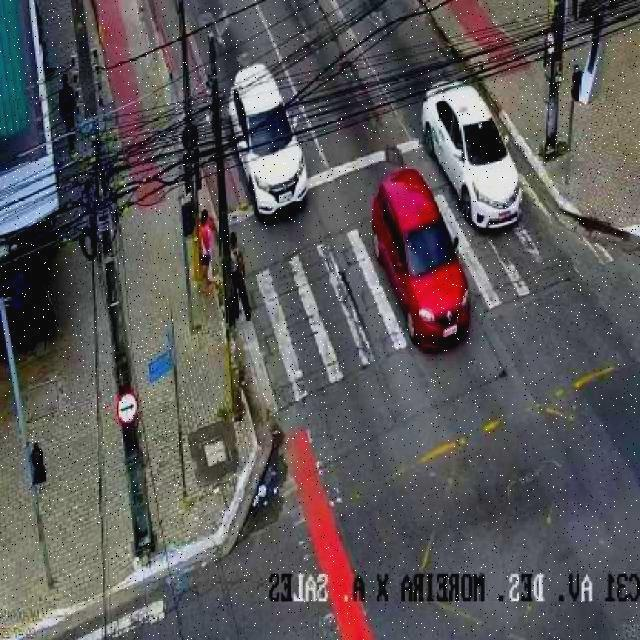Car: (420, 67, 530, 251), (362, 157, 466, 348), (213, 56, 307, 218)
